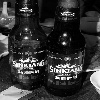beer: (11, 2, 47, 88)
